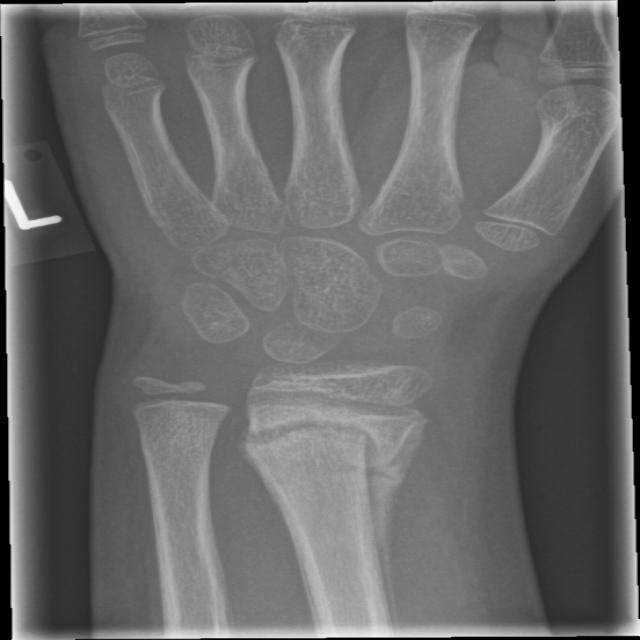radius fracture: (230, 410, 490, 534)
